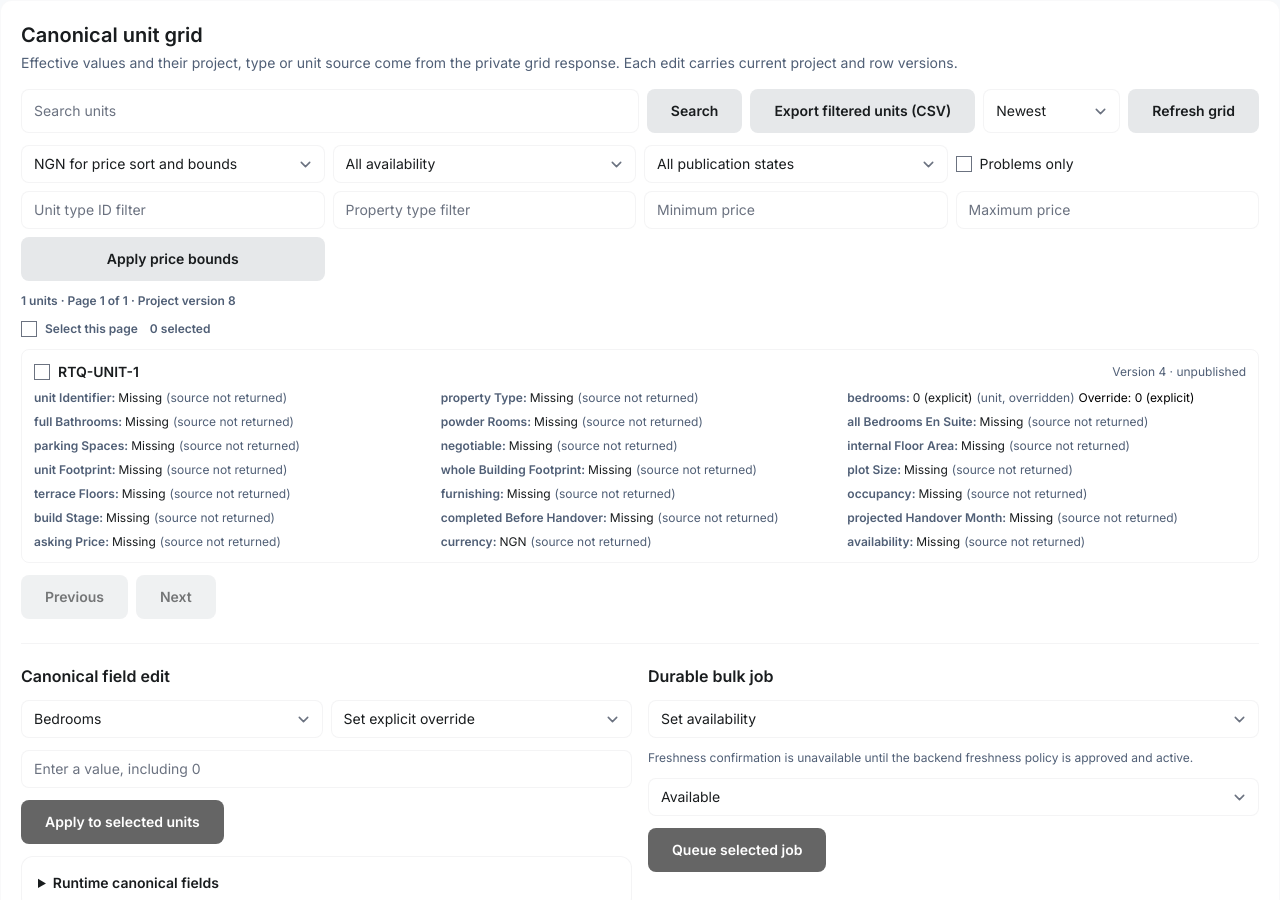
Scenario: canonical unit grid › disables direct undo when the server reports that its undo window expired
Expected: the text "RTQ-UNIT-1" is shown, [34,362,139,382]
Click the checkbox labelled "RTQ-UNIT-1".
click(42, 372)  # box [34,364,50,380]
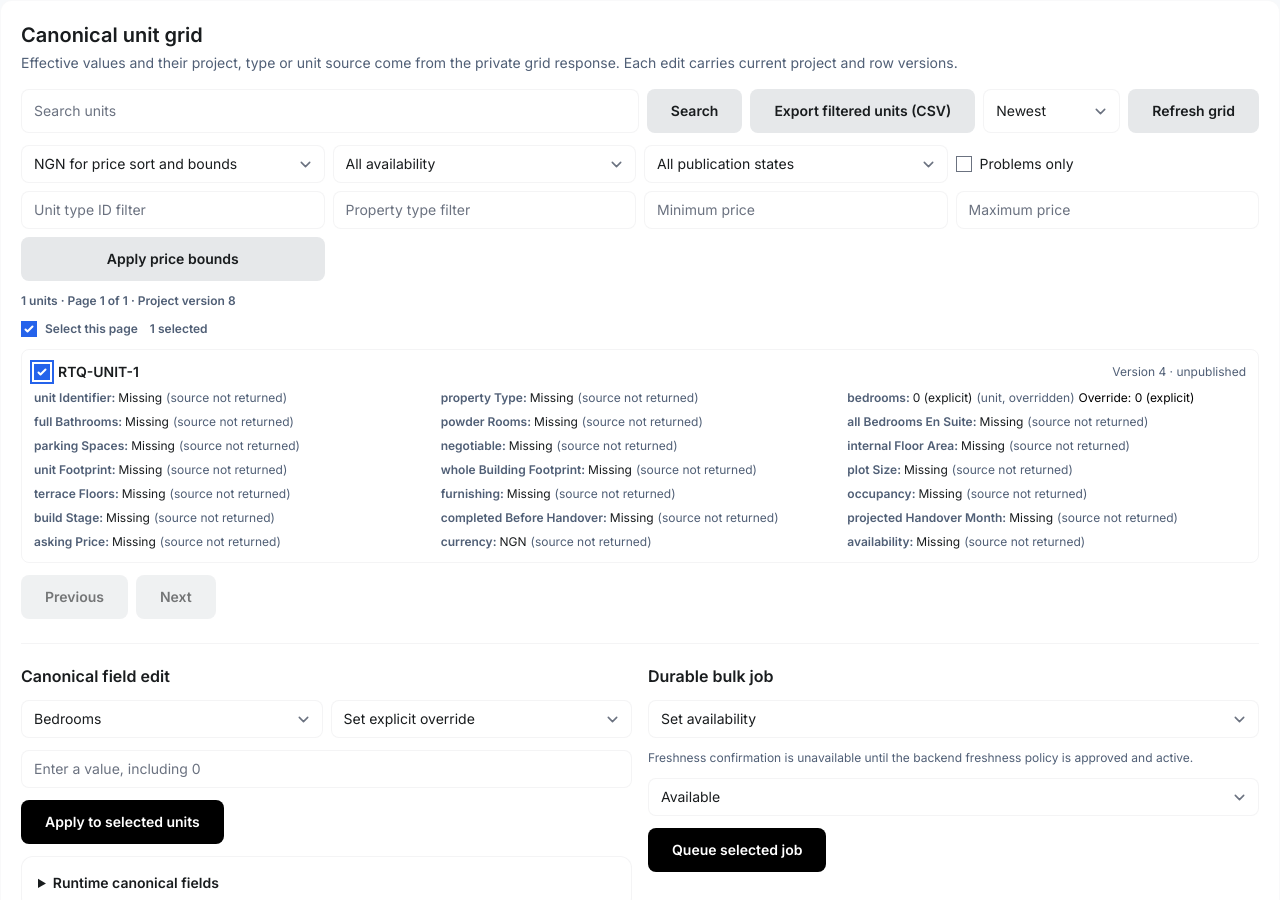
Type "0" into the number field named "Grid field value".
click(326, 769); type("0")  # box [21,750,632,788]
Click the button "Apply to selected units".
click(122, 822)  # box [21,800,224,844]
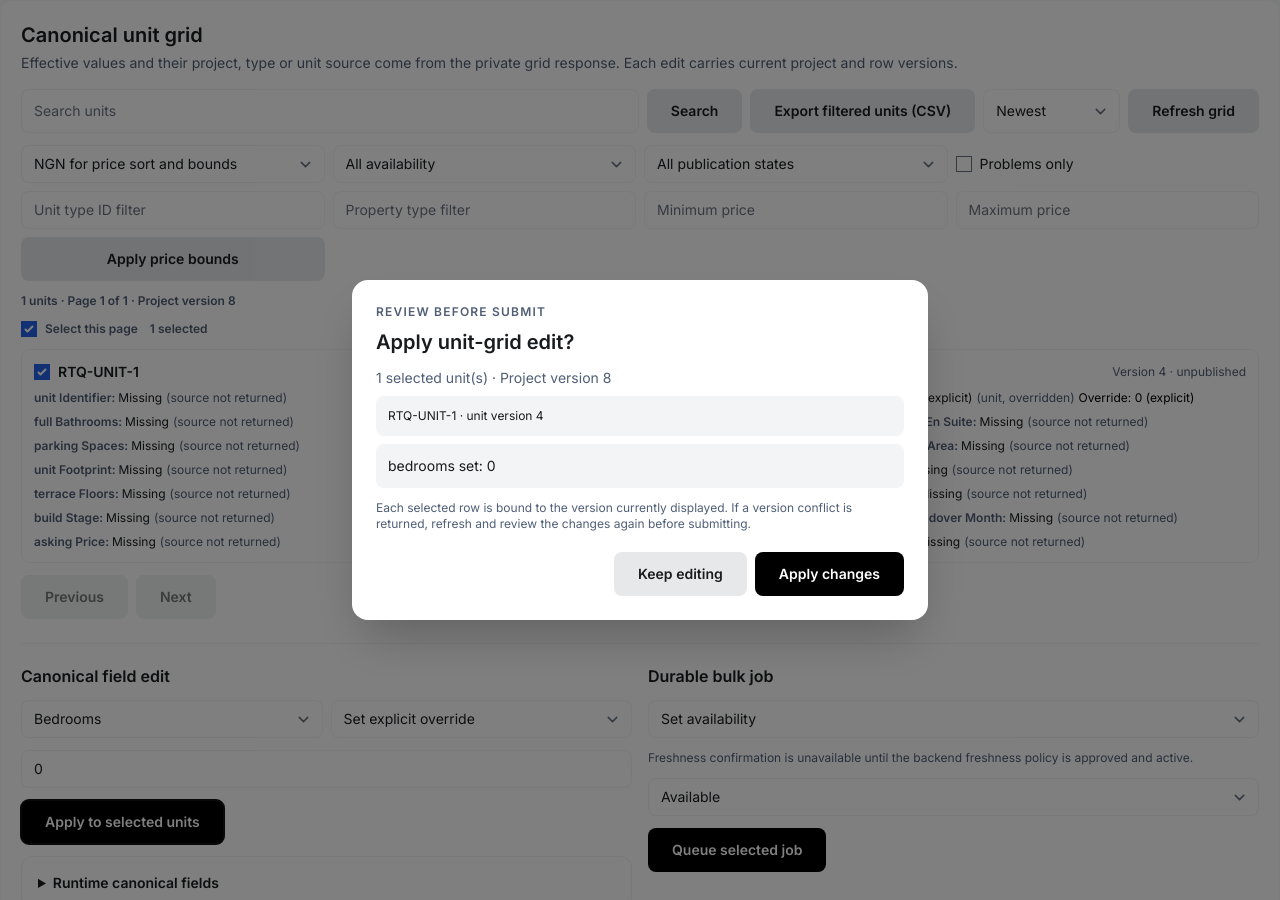
Click the button "Apply changes".
click(829, 574)  # box [755,552,904,596]
(page scrolled)
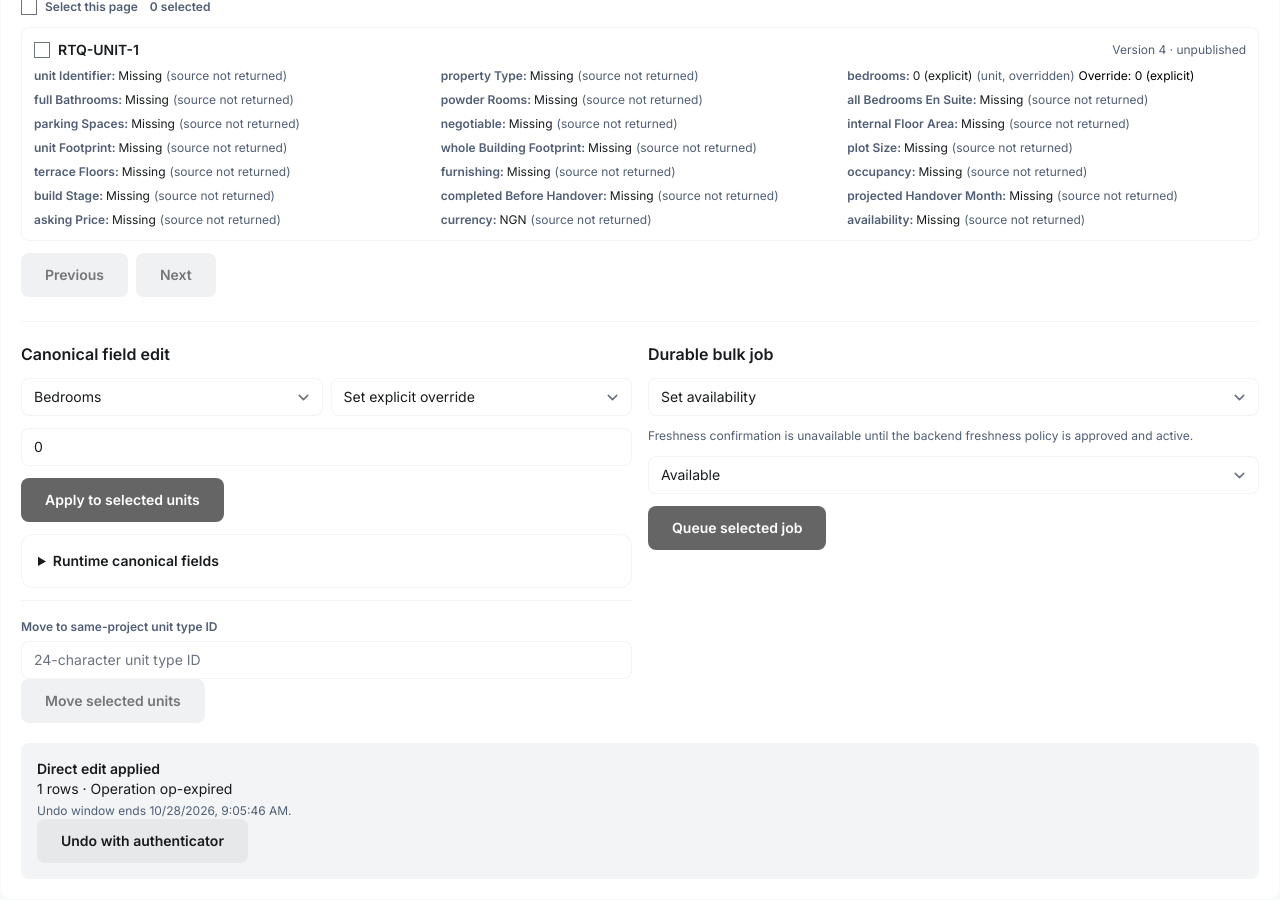
Click the button "Undo with authenticator".
click(142, 841)  # box [37,819,248,863]
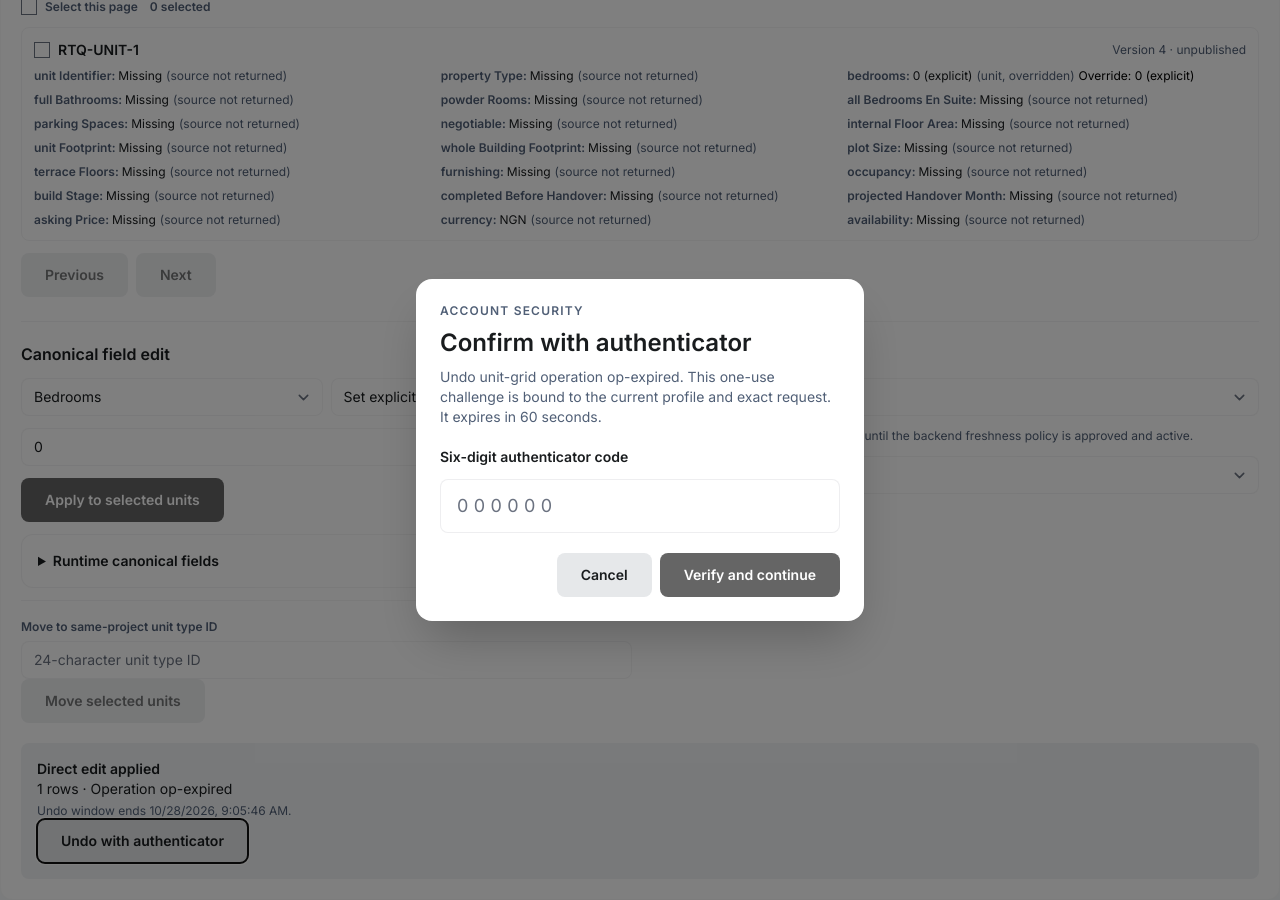
Type "123456" into the field labelled "Six-digit authenticator code".
click(640, 506); type("123456")  # box [440,479,840,533]
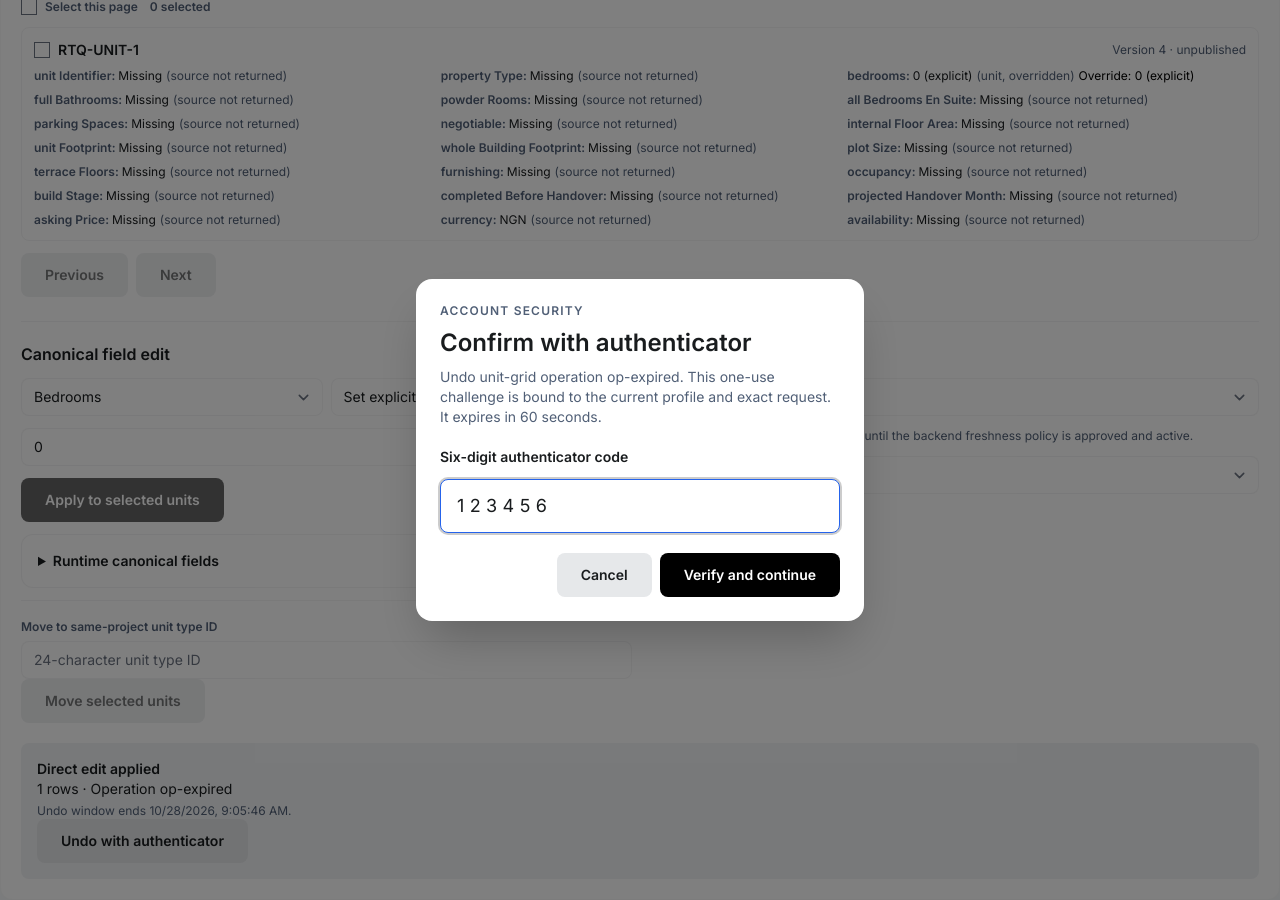
Click the button "Verify and continue".
click(750, 575)  # box [660,553,840,597]
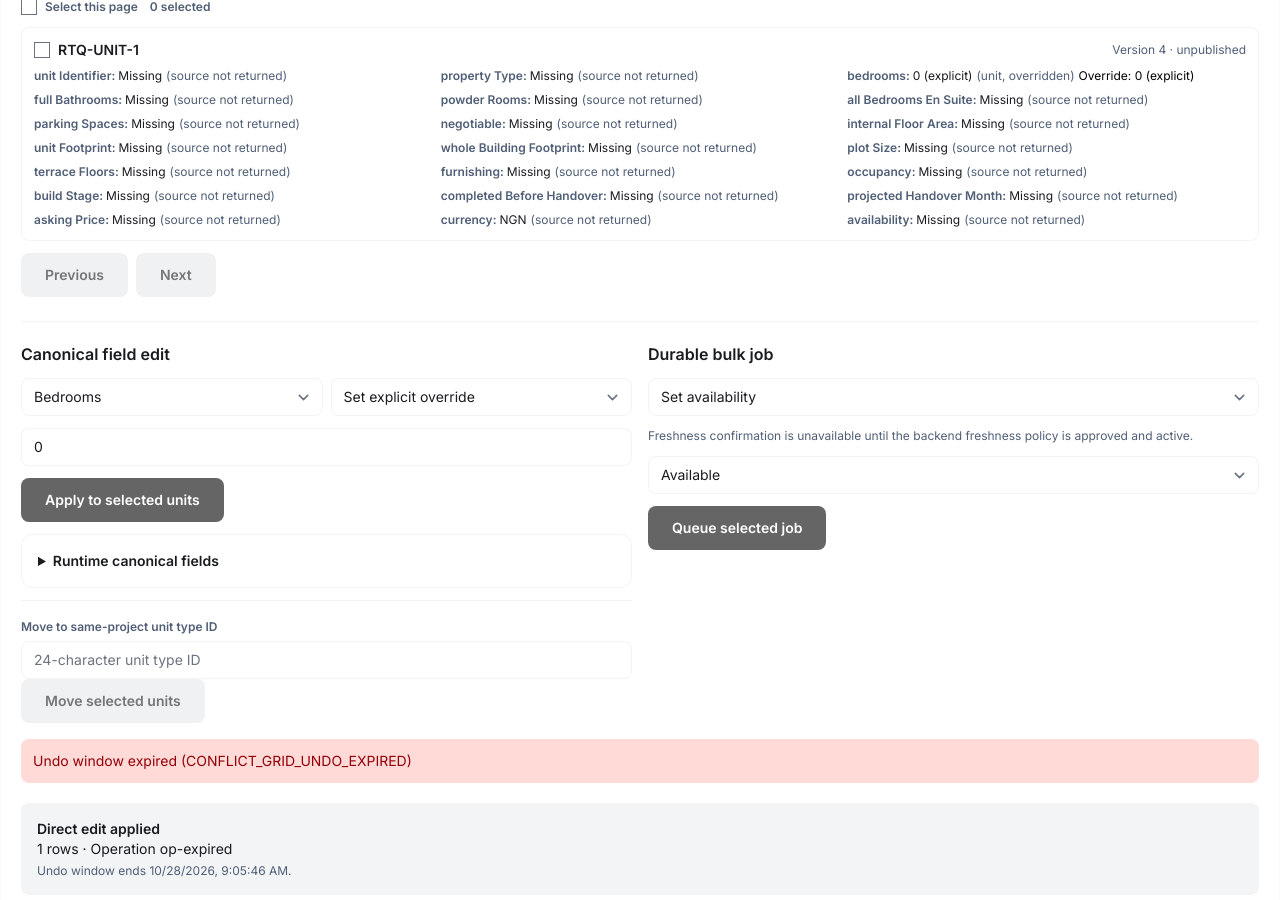
Expected: the text "Undo window expired (CONFLICT_GRID_UNDO_EXPIRED)" is shown, [21,739,1259,783]
Expected: the button "Undo with authenticator" is gone
